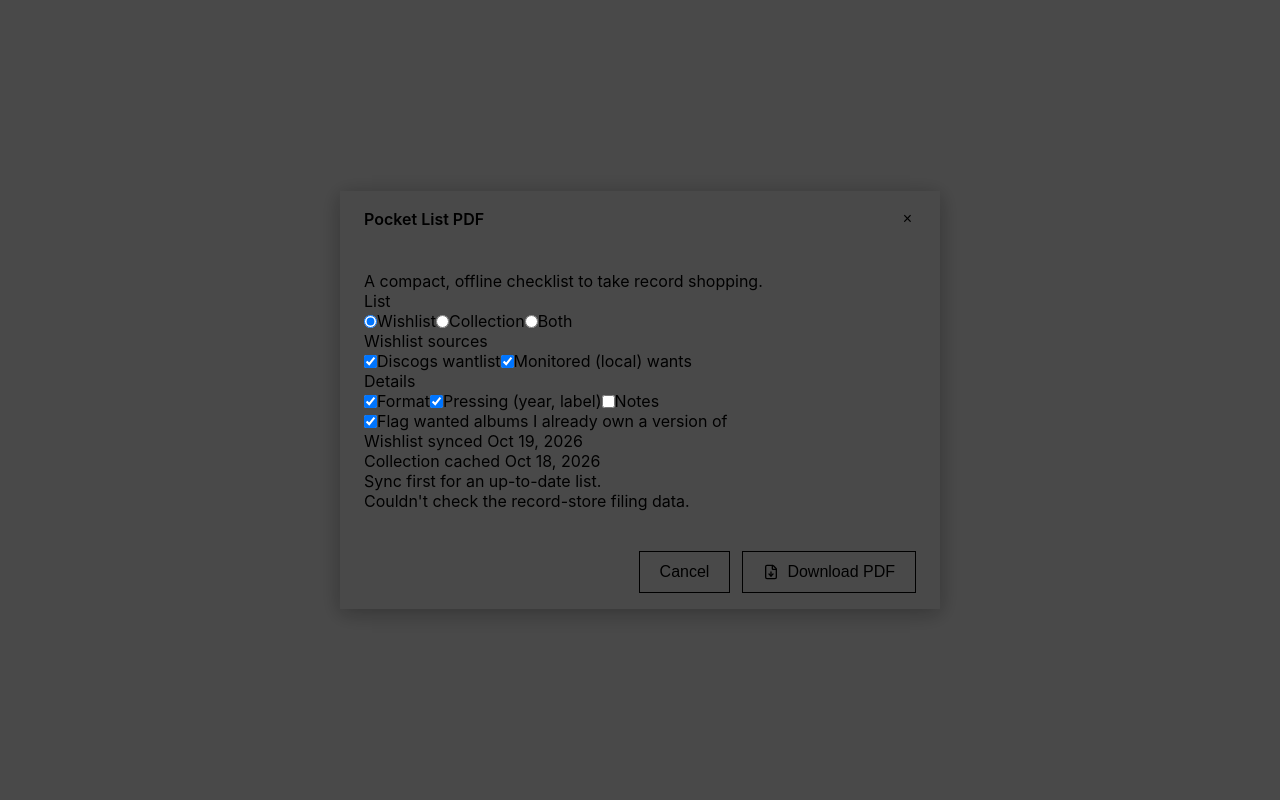
Test case: PocketListExportDialog › option payload › disables Download when the wishlist has no source selected
The image size is (1280, 800).
Click the checkbox labelled "Discogs wantlist". click: (370, 361)
box: [364, 355, 377, 368]
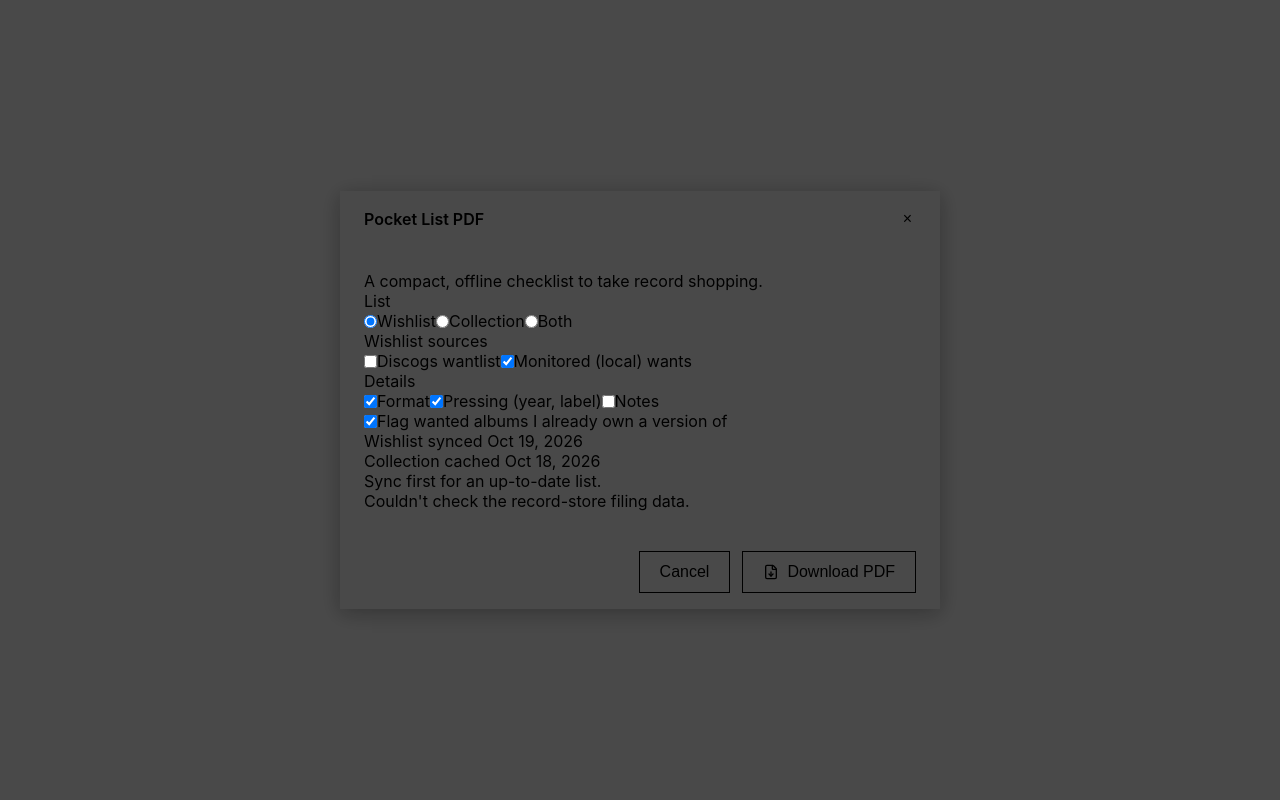
Click the checkbox labelled "Monitored (local) wants". click: (507, 361)
box: [501, 355, 514, 368]
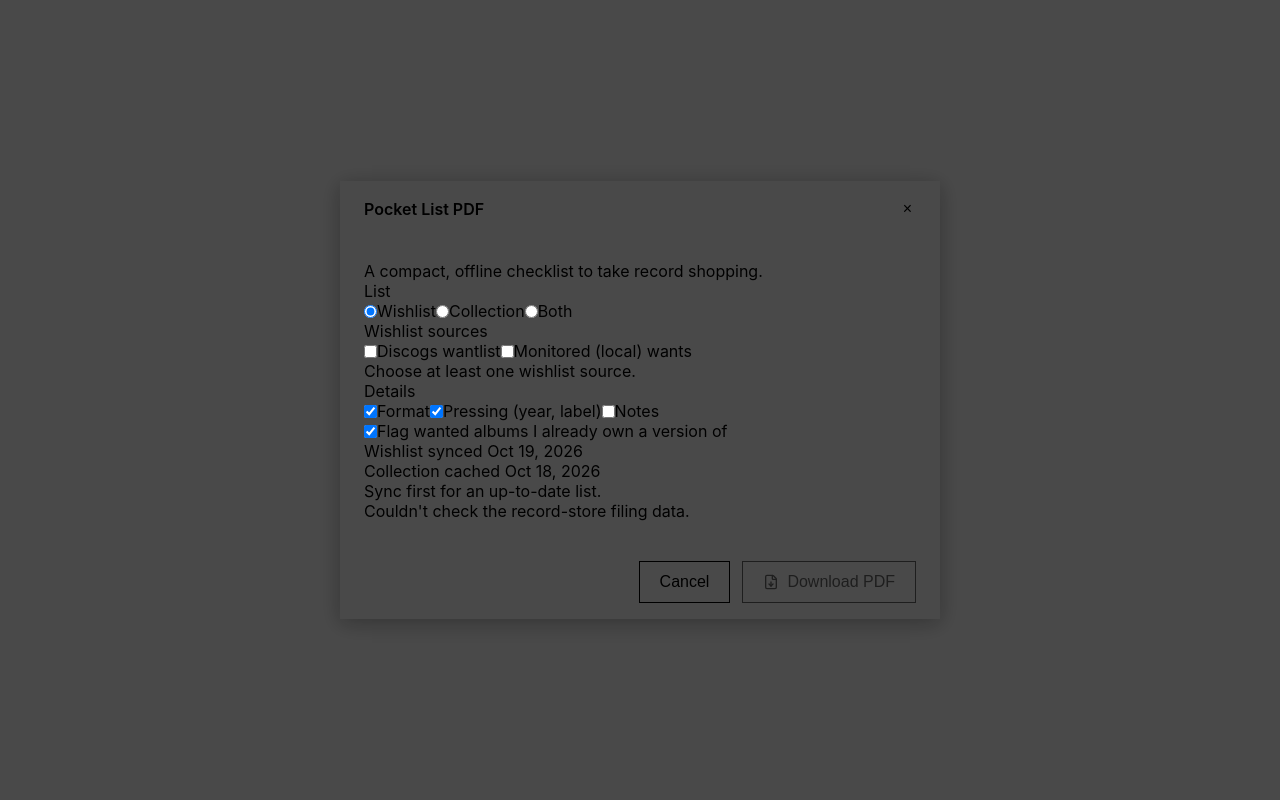
Result: the button "Download PDF" is disabled at [742, 561, 916, 603]
Result: the text "Choose at least one wishlist source." is shown at [364, 361, 636, 381]
